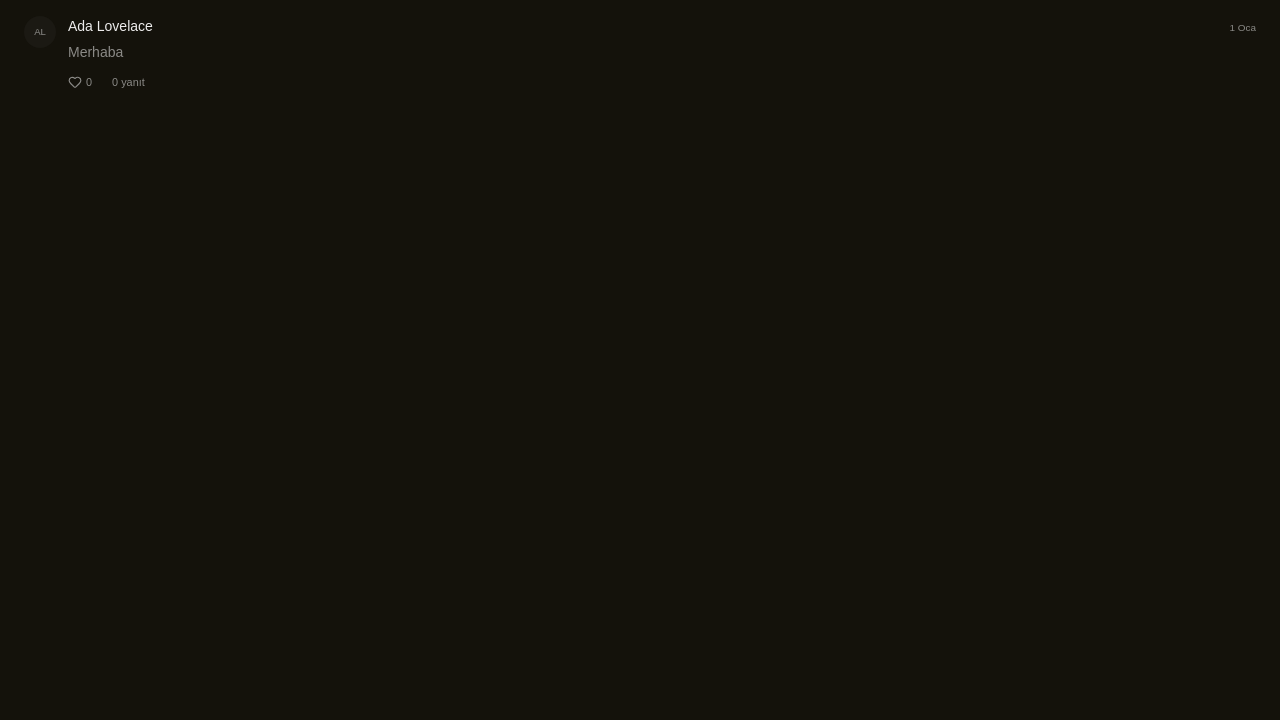
RecentPostsPreview › clicking the reply count opens the thread popup
This screenshot has width=1280, height=720.
Click the text "0 yanıt" at x=128, y=82, box [112,74,145,90]
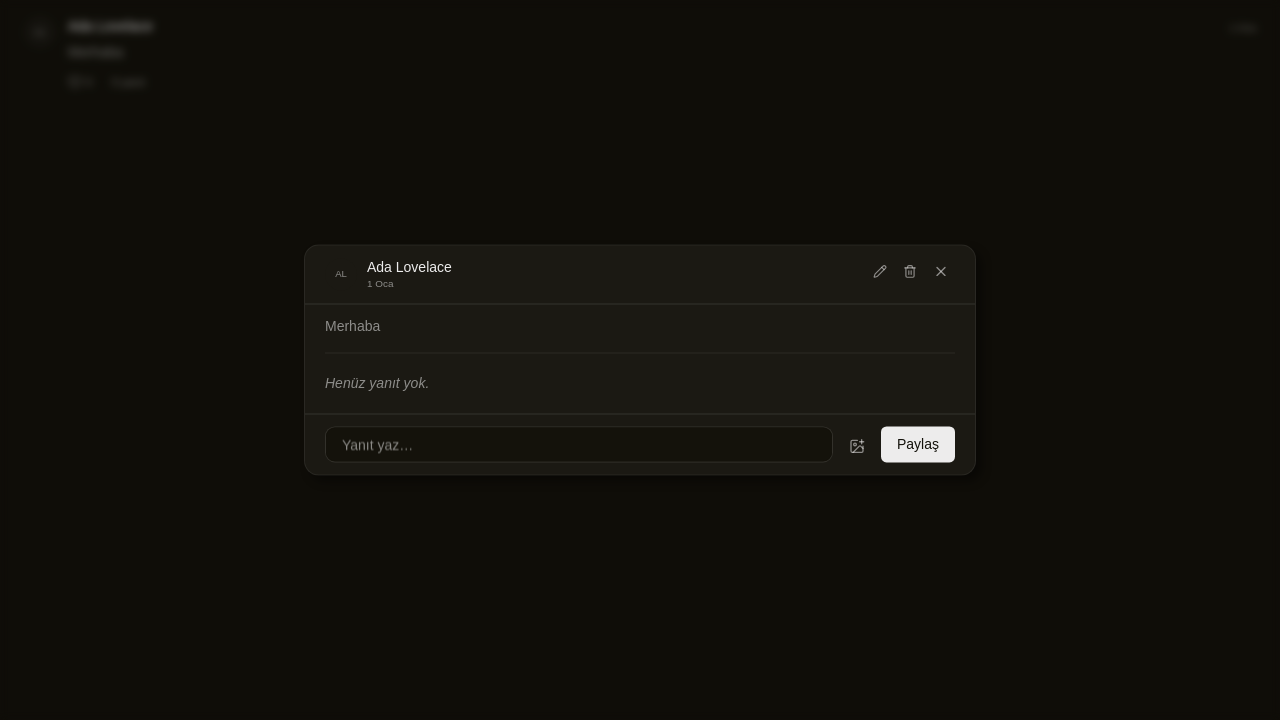
Expected: the dialog is shown, [304,244,976,476]
